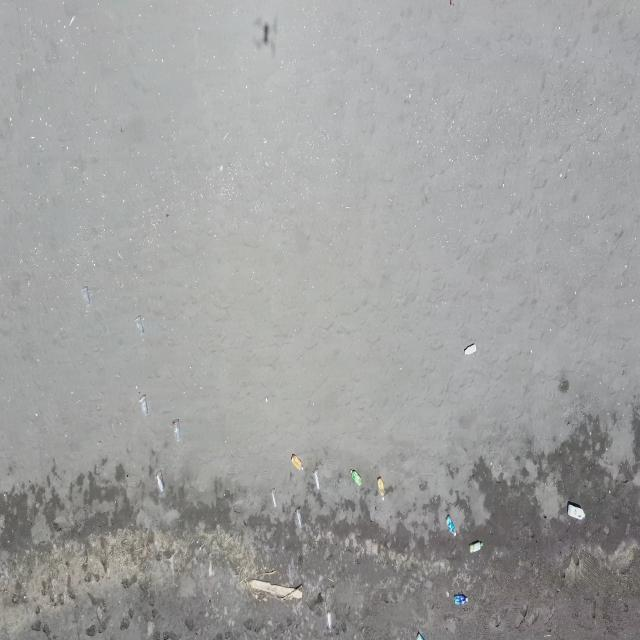plastic-bottle: (565, 502, 586, 522), (445, 515, 458, 536), (291, 452, 304, 473), (351, 467, 364, 487), (453, 592, 468, 608), (467, 538, 483, 552), (377, 476, 386, 498), (463, 342, 477, 356), (415, 629, 427, 640)
takeaway-cup: (171, 416, 182, 443), (138, 394, 149, 417), (155, 469, 165, 494), (81, 286, 91, 307), (294, 508, 303, 531), (312, 469, 321, 492), (270, 488, 280, 508), (136, 315, 145, 335), (326, 610, 333, 634)
